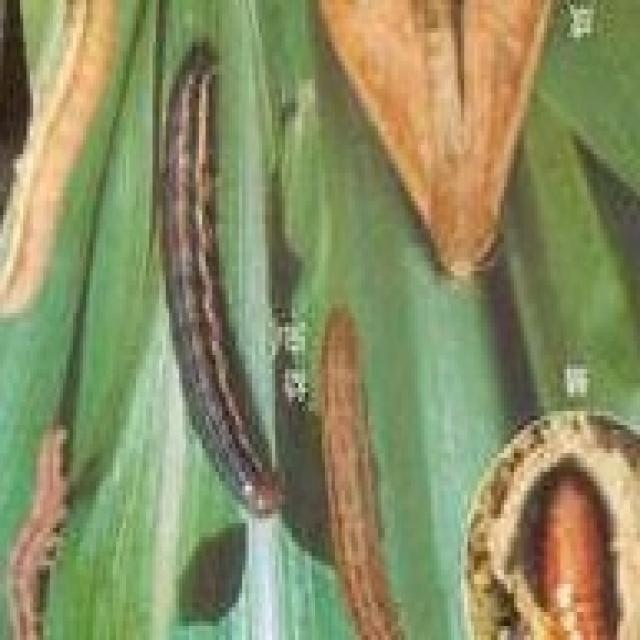army worm: (296, 6, 581, 305), (127, 39, 293, 525), (298, 307, 414, 639), (1, 5, 110, 342), (527, 466, 623, 639), (9, 417, 79, 640)
